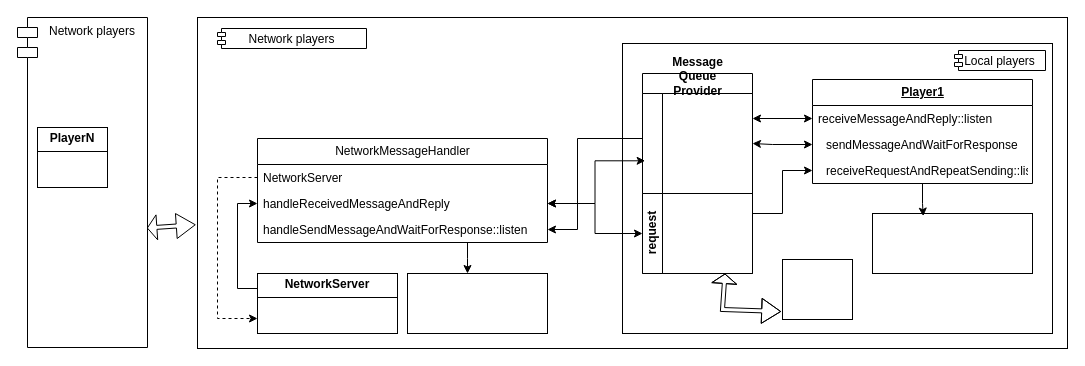
Some shapes in this 1085 by 366 pixel diagram are drawn without their labels. The shapes that lost their labels are listed below. From the top down, each one's centre as x and y in pixels, then its label:
the point at 697,143: message
the point at 952,243: ReplyMessageProvider
the point at 477,303: NetworkClient
the point at 817,289: Player2
